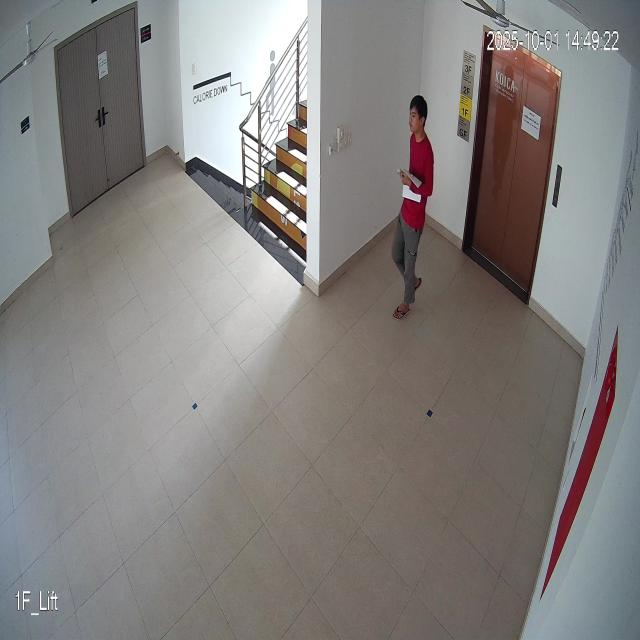face: (407, 92, 429, 138)
